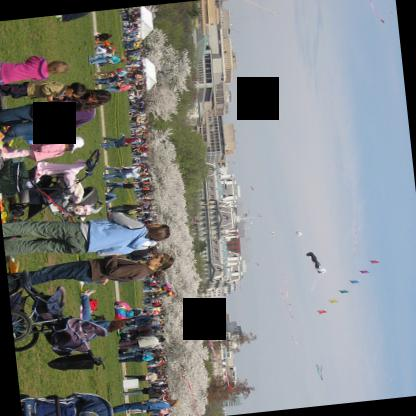suitcase: (0, 157, 27, 194)
